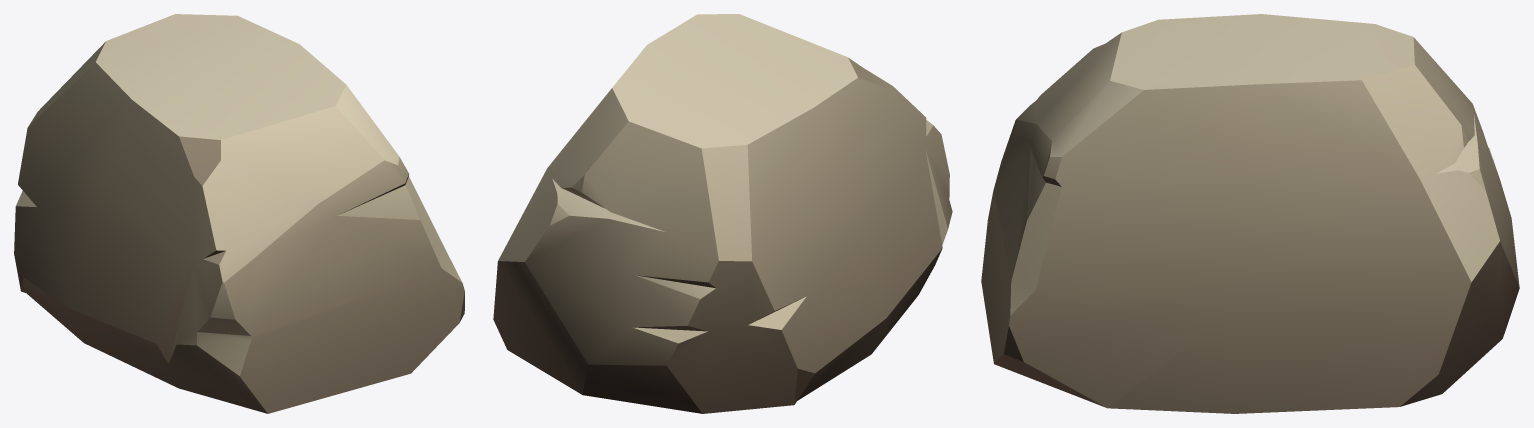
The model's file is Rock_Large_1B.fbx.
3 renders of one model, left to right at view 1: azimuth 30°, elevation 25°; view 2: azimuth 150°, elevation 25°; view 3: azimuth 270°, elevation 25°, orthographic. The views are drawn at different scales.
Parts seen in each view (by area): view 1: Rock_Large_1B; view 2: Rock_Large_1B; view 3: Rock_Large_1B.
Part boxes in pixels (box(x1,y1,x2,y2)): Rock_Large_1B: box(14, 14, 464, 413); Rock_Large_1B: box(493, 14, 952, 413); Rock_Large_1B: box(981, 14, 1519, 413).
Size of the model in its own units: 321 by 238 by 414.
